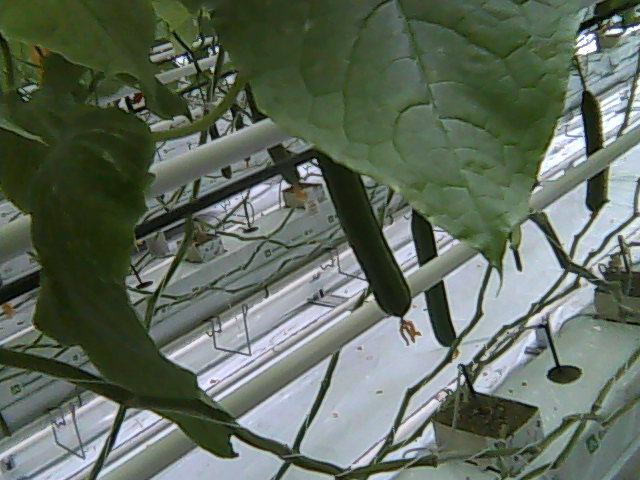concombre: (316, 150, 423, 350)
